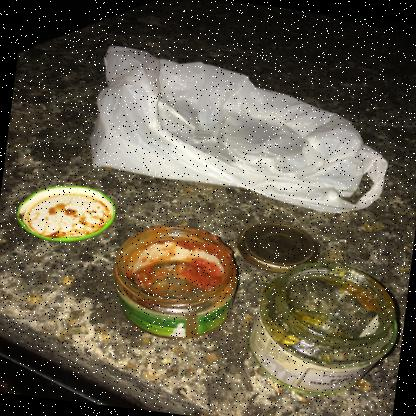Glass jar: (249, 262, 397, 395), (113, 226, 237, 340)
Metal lid: (16, 186, 115, 241), (236, 221, 319, 274)
Single-use carrier bag: (90, 45, 388, 212)
